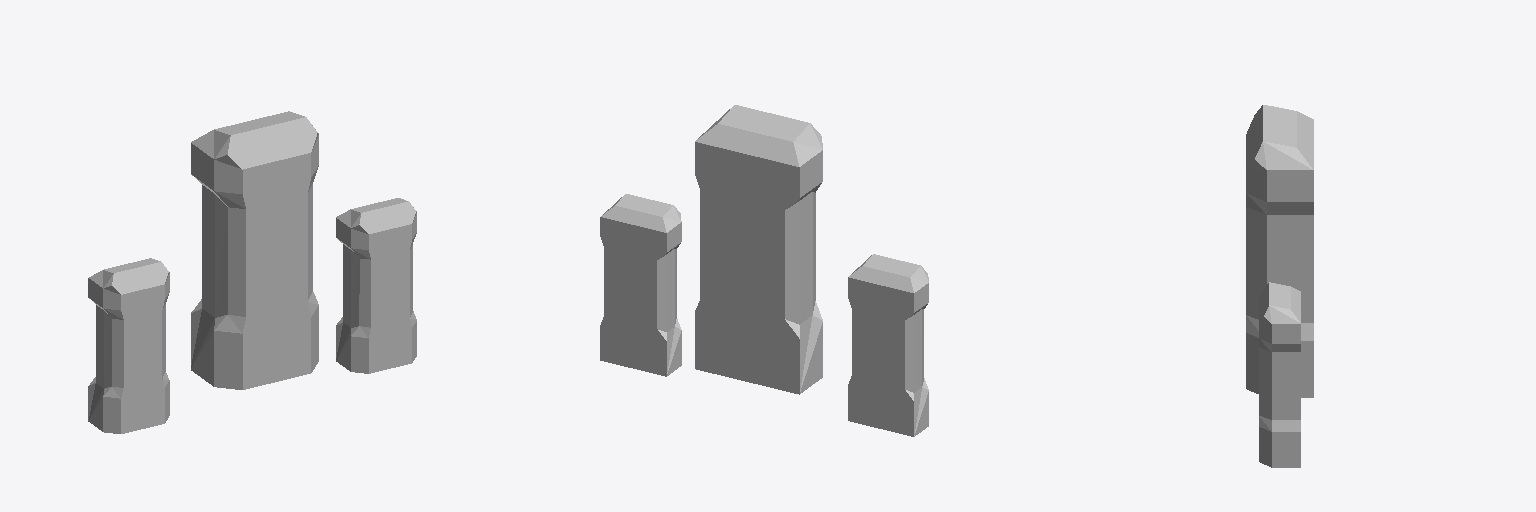
The model's file is Ruin Whitebox.obj.
3 renders of one model, left to right at view 1: azimuth 30°, elevation 25°; view 2: azimuth 150°, elevation 25°; view 3: azimuth 270°, elevation 25°, orthographic.
Visible parts, largest first — view 1: pCube1, pCube2, pCube3; view 2: pCube1, pCube3, pCube2; view 3: pCube1, pCube3.
Boxes of the visible parts, x1,y1,x2,y2 form: pCube1: [191, 111, 318, 389]; pCube2: [88, 258, 169, 433]; pCube3: [336, 198, 416, 373]; pCube1: [695, 105, 822, 394]; pCube3: [600, 194, 681, 376]; pCube2: [848, 254, 928, 436]; pCube1: [1246, 105, 1313, 397]; pCube3: [1259, 282, 1300, 467].
Bounding box in the file's own units: 11.86 × 9.76 × 2.22.